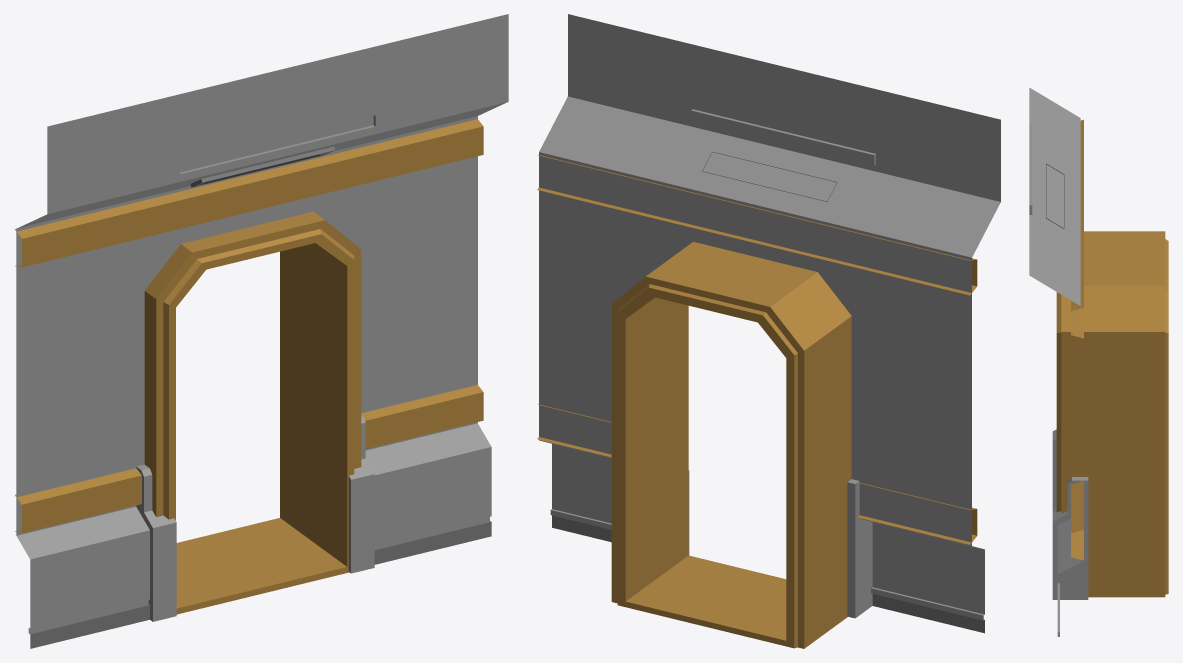
Rendered from DoorSingle_Wall_SideA.glb.
3 views of the same model, side by side, from view 1: azimuth 30°, elevation 25°; view 2: azimuth 150°, elevation 25°; view 3: azimuth 270°, elevation 25° (orthographic). The views are drawn at different scales.
Visible parts, largest first — view 1: DoorSingle_Wall_SideA; view 2: DoorSingle_Wall_SideA; view 3: DoorSingle_Wall_SideA.
Part boxes in pixels (box(x1,y1,x2,y2)): DoorSingle_Wall_SideA: box(14, 14, 508, 648); DoorSingle_Wall_SideA: box(537, 14, 1000, 648); DoorSingle_Wall_SideA: box(1029, 87, 1168, 636).
Bounding box in the file's own units: 1.36 × 1.51 × 0.4263.
